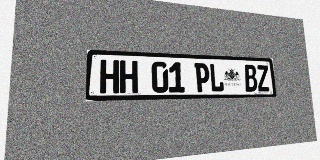0: (151, 61, 168, 93)
1: (168, 62, 185, 93)
B: (244, 64, 258, 92)
H: (100, 60, 119, 94), (120, 60, 138, 93)
L: (209, 63, 224, 92)
P: (194, 63, 210, 92)
Z: (256, 65, 270, 91)
